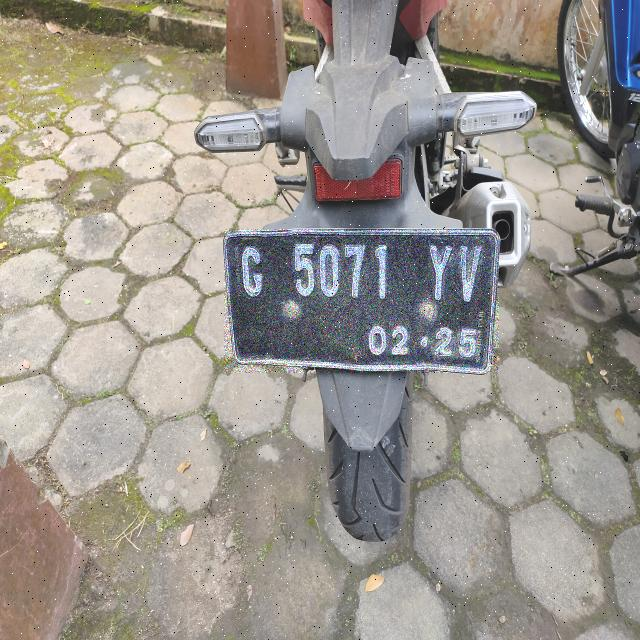plate: (225, 230, 498, 372)
